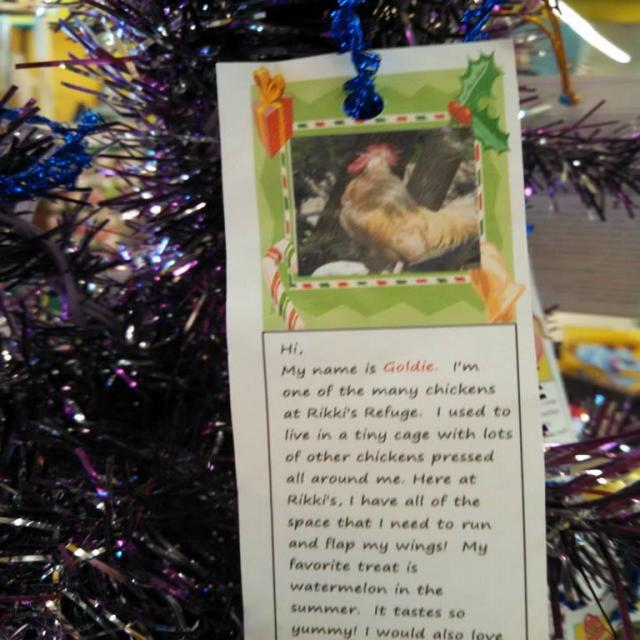Chicken: (331, 121, 489, 263)
